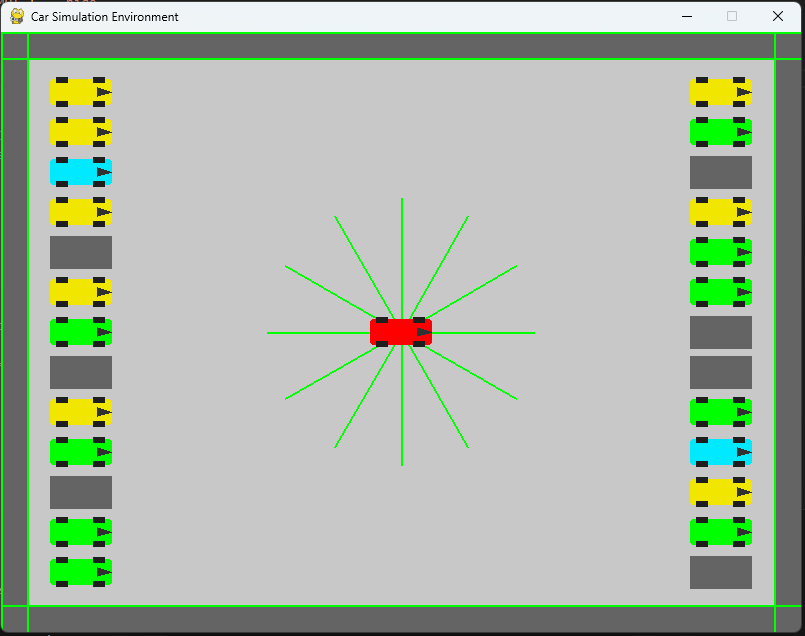ControlledCar: (365, 310, 444, 356)
ParkedCar: (684, 68, 758, 114), (43, 312, 122, 350), (44, 394, 118, 434), (687, 391, 758, 432), (43, 72, 116, 111), (685, 474, 757, 512), (684, 235, 758, 271), (46, 271, 119, 306), (45, 552, 114, 589), (47, 153, 121, 187), (42, 195, 119, 227), (43, 114, 117, 147), (47, 435, 118, 469), (687, 115, 758, 149), (684, 435, 757, 468), (685, 195, 755, 229), (50, 512, 116, 548), (682, 516, 755, 548), (688, 277, 757, 309)
ParkingSpot: (682, 153, 762, 193), (43, 231, 120, 271), (684, 553, 761, 593), (682, 312, 758, 351), (47, 474, 118, 514), (684, 355, 758, 393), (46, 355, 120, 390)
